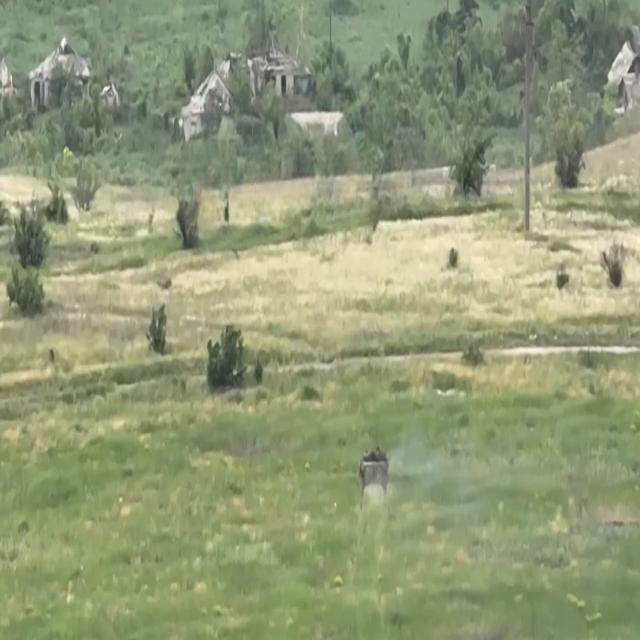AIFV: (359, 444, 392, 491)
